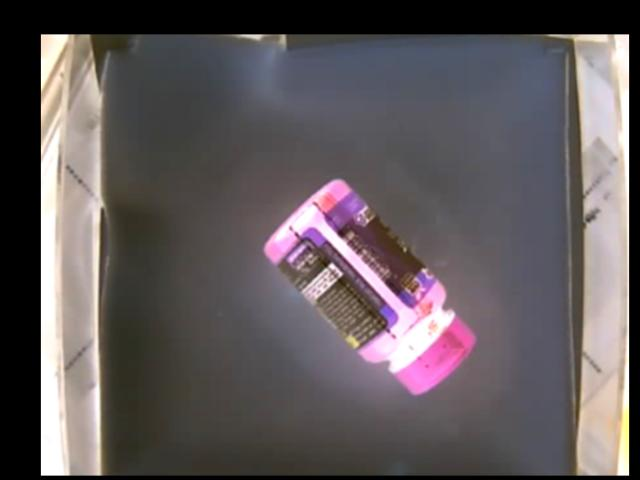Bottle: (263, 180, 475, 400)
